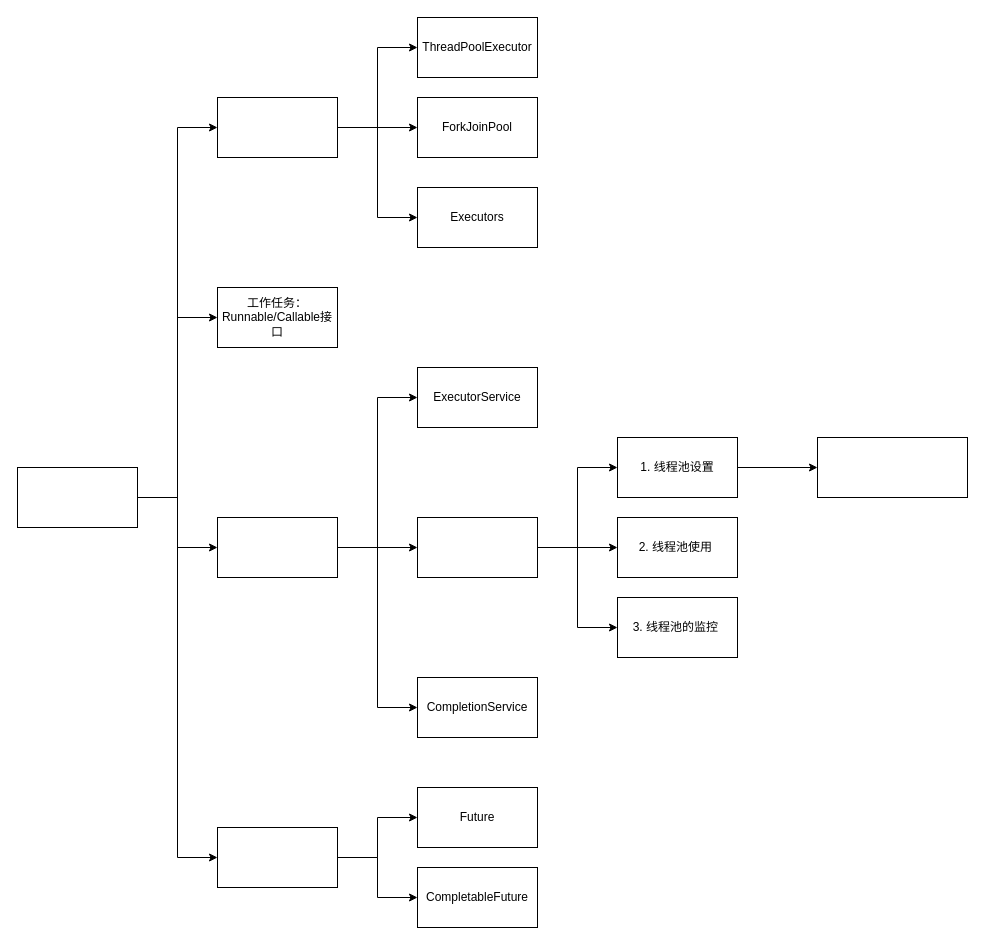
Image size: 985x945. Some labels were removed from this diagram. The centre of each missing label's shape, as x and y in pixels:
"1.使用自定义的线程池。 2.确定线程池的大小。 3.阻塞队列设置。 4.线程池的优雅关闭。" goes at pixel 892 467.
"异步计算的结果：Future接口" goes at pixel 277 857.
"执行机制：Executor接口、ExecutorService接口、ScheduledExecutorService接口" goes at pixel 277 547.
"线程池创建" goes at pixel 277 127.
"线程池框架" goes at pixel 77 497.
"线程池的正确使用" goes at pixel 477 547.
